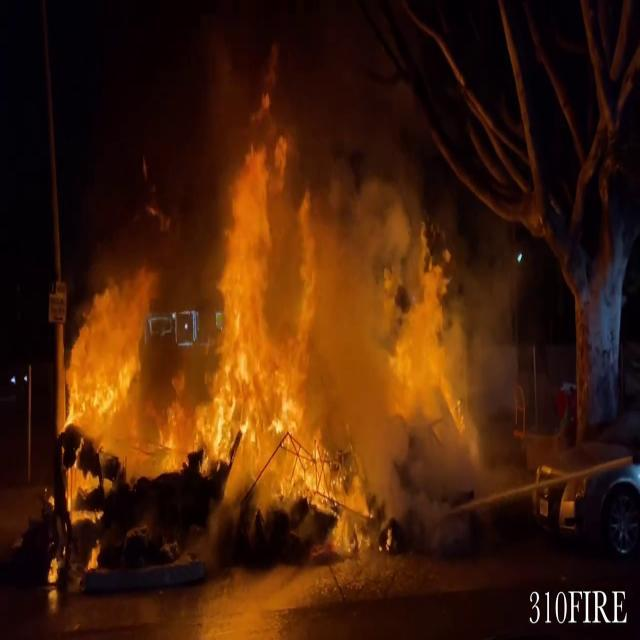Fire: (66, 104, 507, 512)
